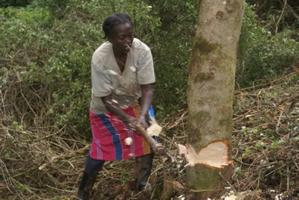person: (75, 13, 163, 200)
